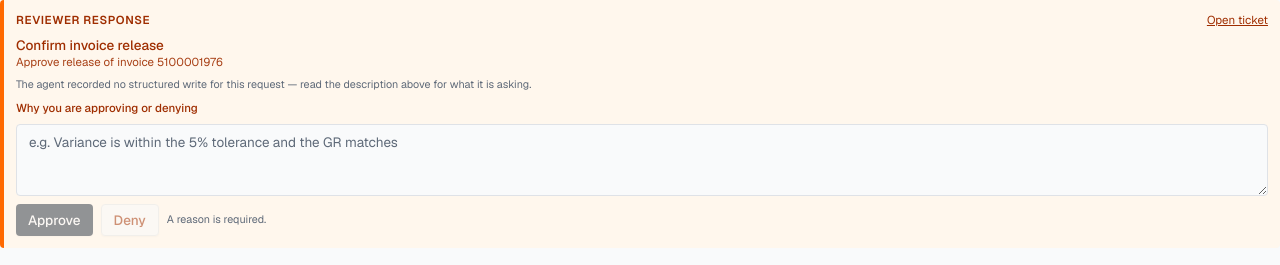
Test: InlineCaseTicket › surfaces a ticket action failure
Expected: the text "Confirm invoice release" is shown, [16, 36, 164, 54]
Type "Variance exceeds tolerance" into the text box labelled "Why you are approving or denying" at {"x": 642, "y": 160}, box [16, 124, 1268, 196]
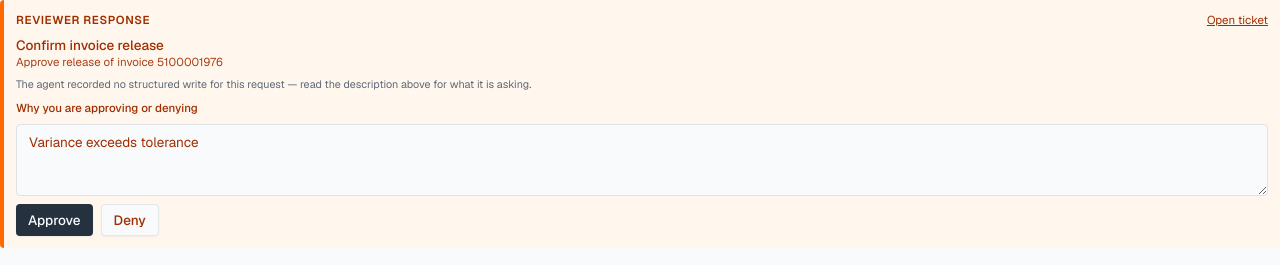
Click the button "Deny" at {"x": 130, "y": 220}, box [100, 204, 159, 236]
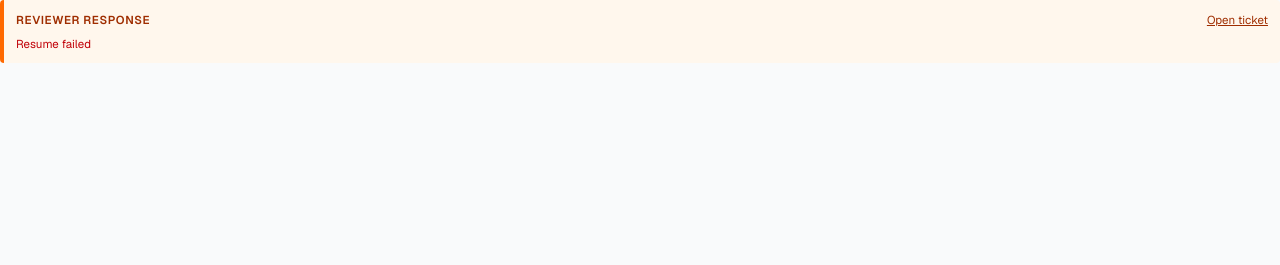
Now the message reads "Resume failed", box [16, 36, 91, 50]
